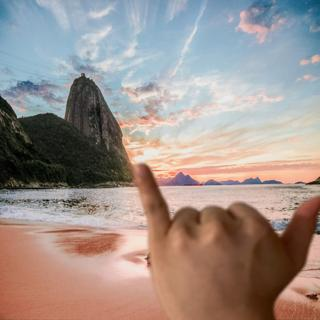HAVE: (123, 157, 320, 320)
